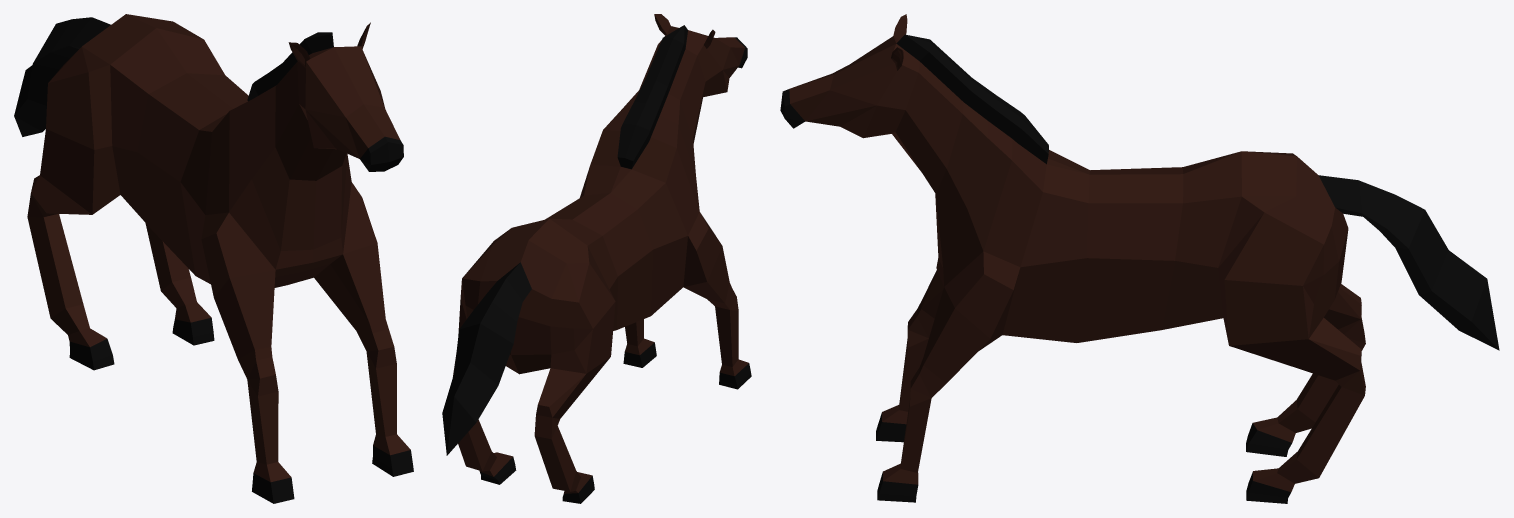
The model's file is Horse_000007.obj.
The picture shows the model from 3 angles, left to right: view 1: azimuth 30°, elevation 25°; view 2: azimuth 150°, elevation 25°; view 3: azimuth 270°, elevation 25°; orthographic projection. The views are drawn at different scales.
Visible parts, largest first — view 1: Horse_Cylinder; view 2: Horse_Cylinder; view 3: Horse_Cylinder.
Part boxes in pixels (x1,y1,x2,y2): Horse_Cylinder: (14,14,413,503); Horse_Cylinder: (442,14,751,503); Horse_Cylinder: (780,14,1499,503).
Size of the model in its own units: 2.55 by 6.74 by 9.86.
